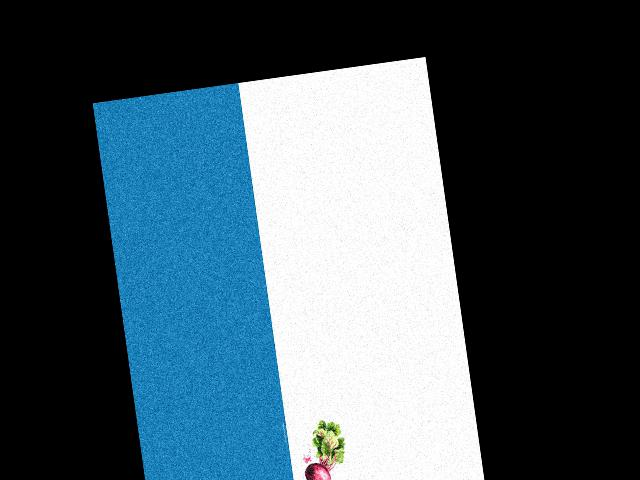beet: (294, 416, 351, 480)
